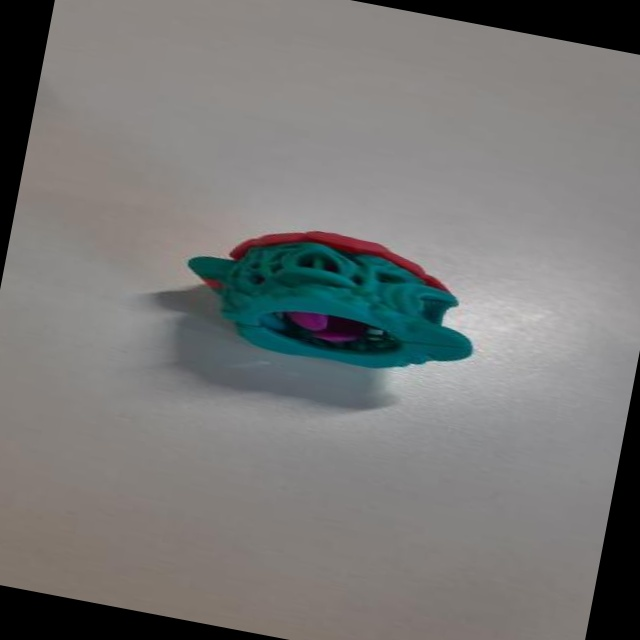House: (122, 180, 513, 431)
